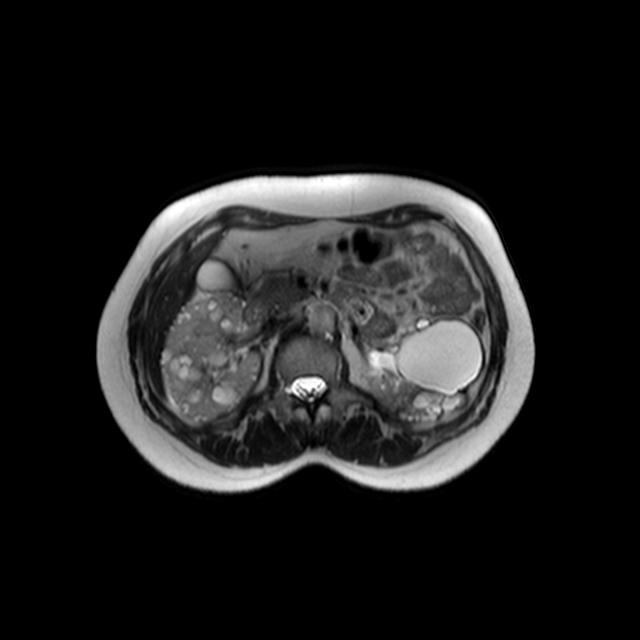sag: (159, 292, 264, 423)
sol: (361, 315, 486, 423)
